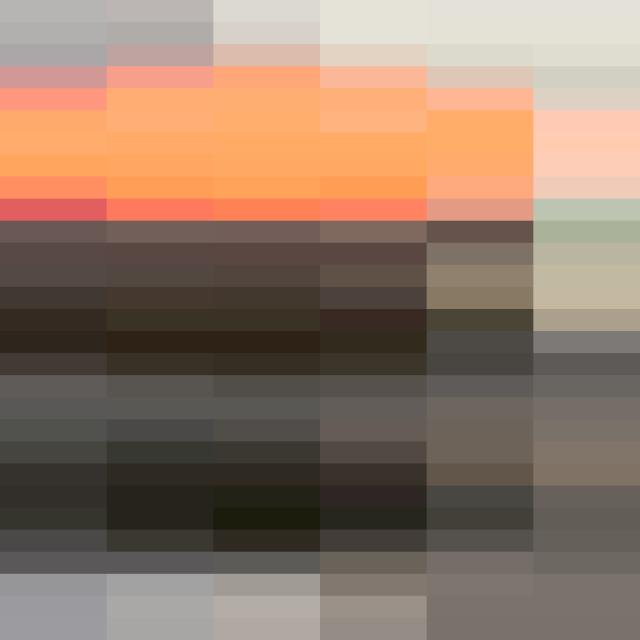red_light: (21, 36, 598, 606)
